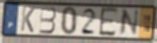0: (58, 6, 79, 37)
2: (79, 8, 98, 36)
B: (38, 6, 57, 35)
E: (98, 6, 120, 38)
K: (20, 6, 37, 34)
N: (117, 8, 141, 37)
